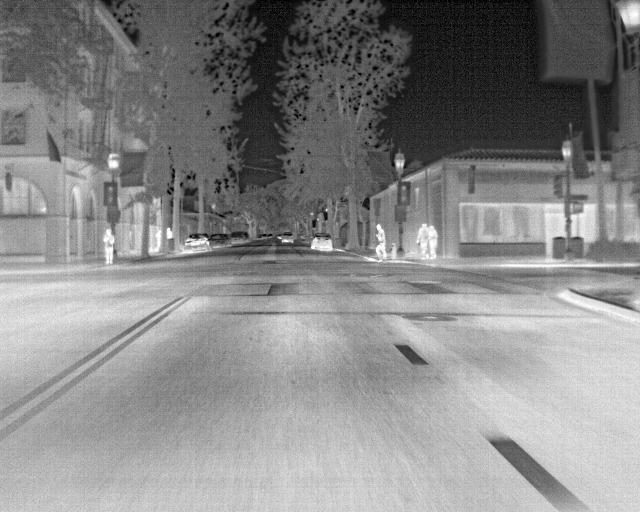bicycle: (179, 233, 211, 252), (307, 232, 335, 253), (210, 233, 229, 249), (228, 230, 246, 246), (280, 234, 294, 246)
empty: (101, 226, 117, 266), (373, 222, 388, 262), (425, 225, 440, 259), (414, 223, 427, 258)
